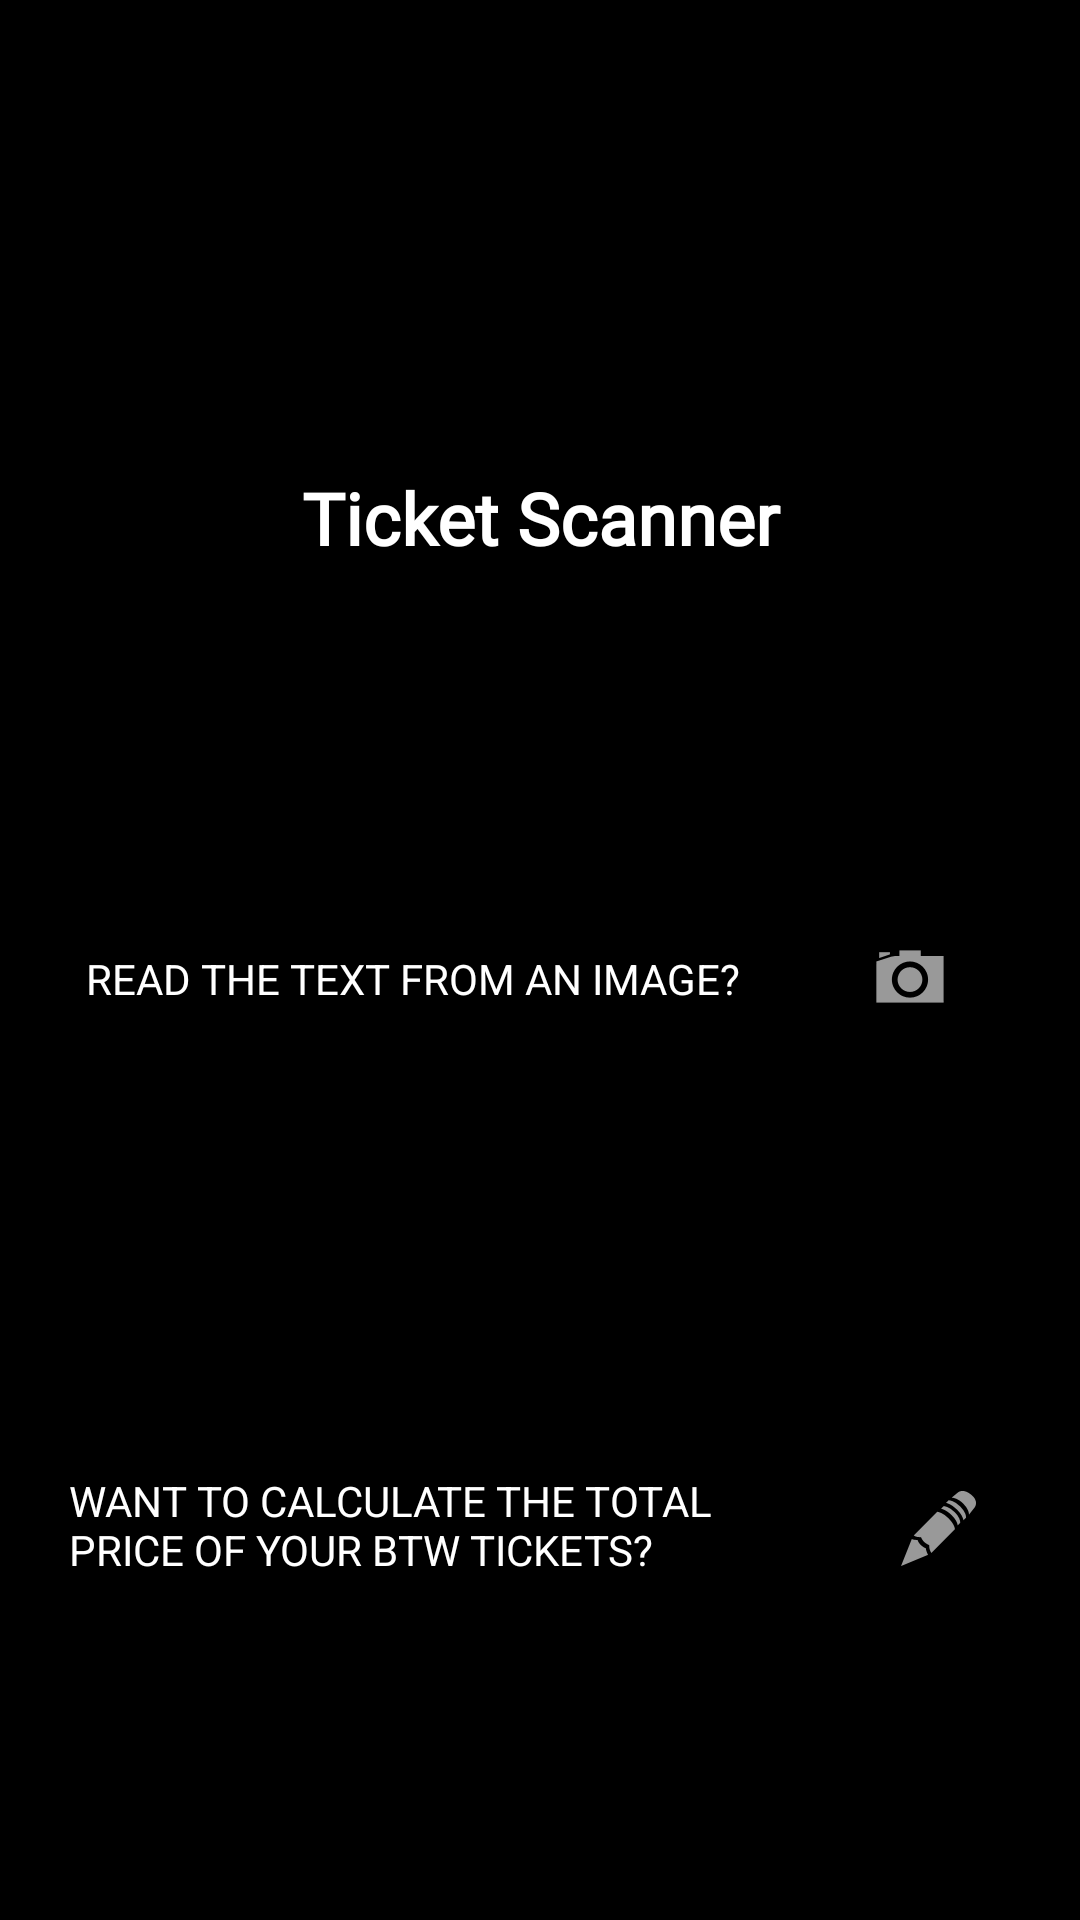

Icon click points for this 1080×1920 phone screenshot, format point (x, y):
camera: point (910, 976)
edit: point (938, 1528)
